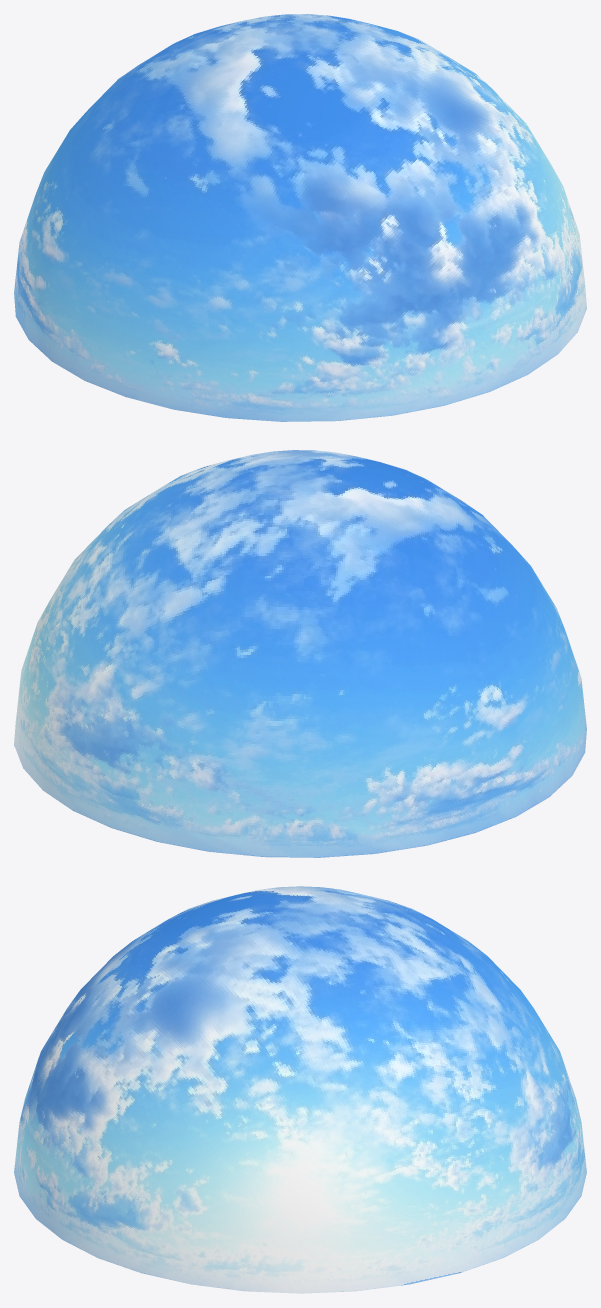
The model's file is Virtual Gallery v2-custom.glb.
The picture shows the model from 3 angles, top to bottom: view 1: azimuth 30°, elevation 25°; view 2: azimuth 150°, elevation 25°; view 3: azimuth 270°, elevation 25°; orthographic projection.
Parts seen in each view (by area): view 1: Skybox.001; view 2: Skybox.001; view 3: Skybox.001.
Boxes of the visible parts, bbox=[...] form: Skybox.001: bbox=[14, 14, 586, 421]; Skybox.001: bbox=[14, 450, 586, 857]; Skybox.001: bbox=[14, 886, 586, 1293].
Bounding box in the file's own units: 47.98 × 27.37 × 47.98.
Materials: 12 (11 with a texture image).
